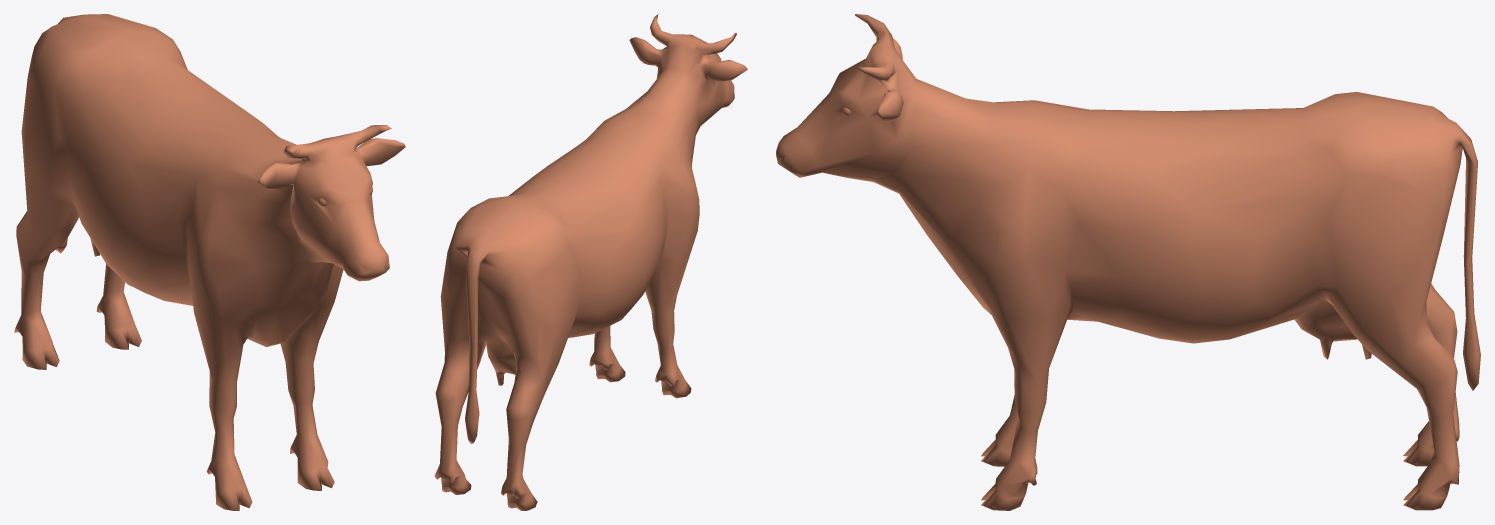
File: new_cow.glb
3 views of the same model, side by side, from view 1: azimuth 30°, elevation 25°; view 2: azimuth 150°, elevation 25°; view 3: azimuth 270°, elevation 25° (orthographic). The views are drawn at different scales.
Visible parts, largest first — view 1: cow; view 2: cow; view 3: cow.
Part boxes in pixels (x1,y1,x2,y2): cow: (14, 14, 405, 510); cow: (434, 14, 747, 510); cow: (776, 14, 1480, 510).
Size of the model in its own units: 0.6625 by 1.53 by 2.21.
